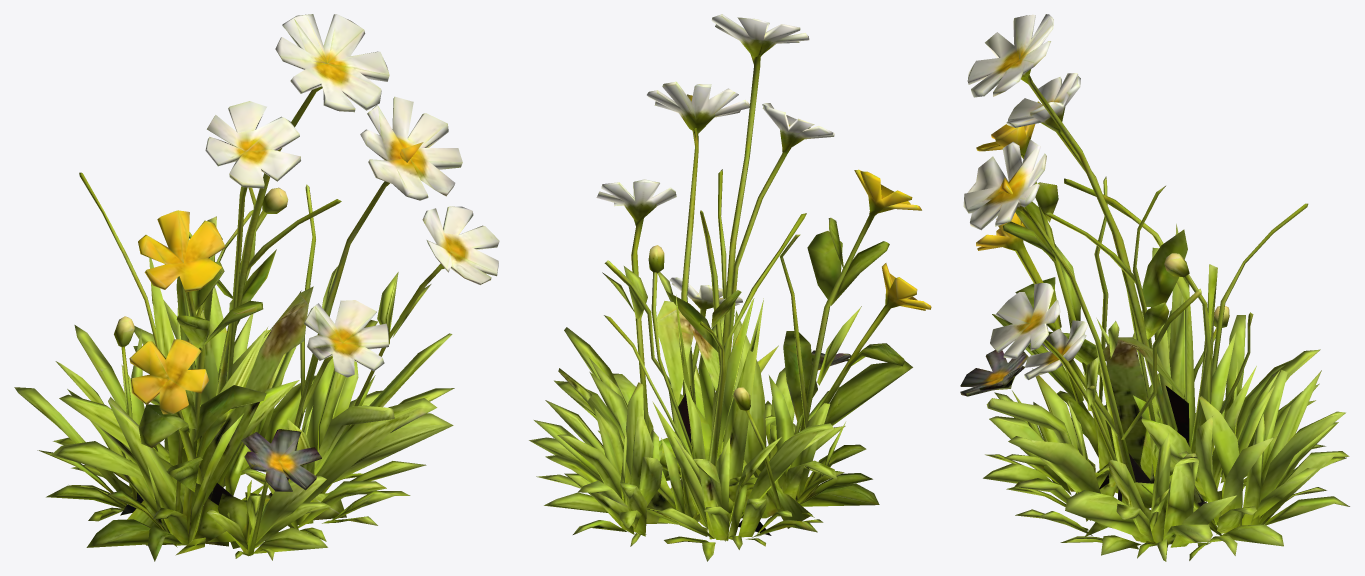
Rendered from wildflower-cluster.glb.
The picture shows the model from 3 angles, left to right: view 1: azimuth 30°, elevation 25°; view 2: azimuth 150°, elevation 25°; view 3: azimuth 270°, elevation 25°; orthographic projection. The views are drawn at different scales.
Size of the model in its own units: 0.7539 by 1 by 0.7207.
1 material, 1 textured.
